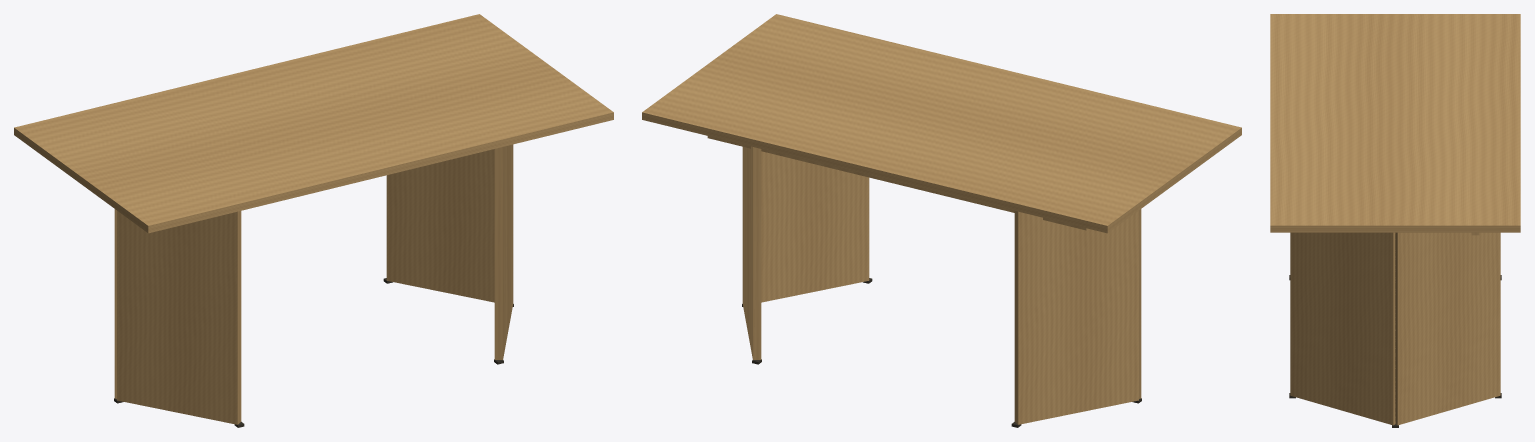
The model's file is casamia-havel-150-natural.glb.
The picture shows the model from 3 angles, left to right: view 1: azimuth 30°, elevation 25°; view 2: azimuth 150°, elevation 25°; view 3: azimuth 270°, elevation 25°; orthographic projection. The views are drawn at different scales.
Visible parts, largest first — view 1: 23mm tabletop, V support wing (×4); view 2: 23mm tabletop, V support wing (×4), rear support rail; view 3: 23mm tabletop, V support wing (×2).
Boxes of the visible parts, bbox=[...] form: 23mm tabletop: bbox=[14, 14, 613, 233]; V support wing (×4): bbox=[114, 144, 513, 424]; 23mm tabletop: bbox=[642, 14, 1241, 233]; V support wing (×4): bbox=[742, 146, 1141, 424]; rear support rail: bbox=[707, 136, 1088, 230]; 23mm tabletop: bbox=[1270, 14, 1520, 232]; V support wing (×2): bbox=[1290, 232, 1500, 425].
Bounding box in the file's own units: 1.5 × 0.72 × 0.75.
Materials: 10 (2 with a texture image).
